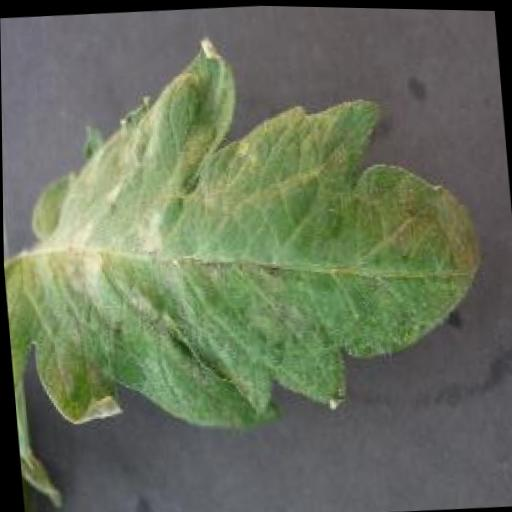Late Blight: (0, 10, 504, 512)
